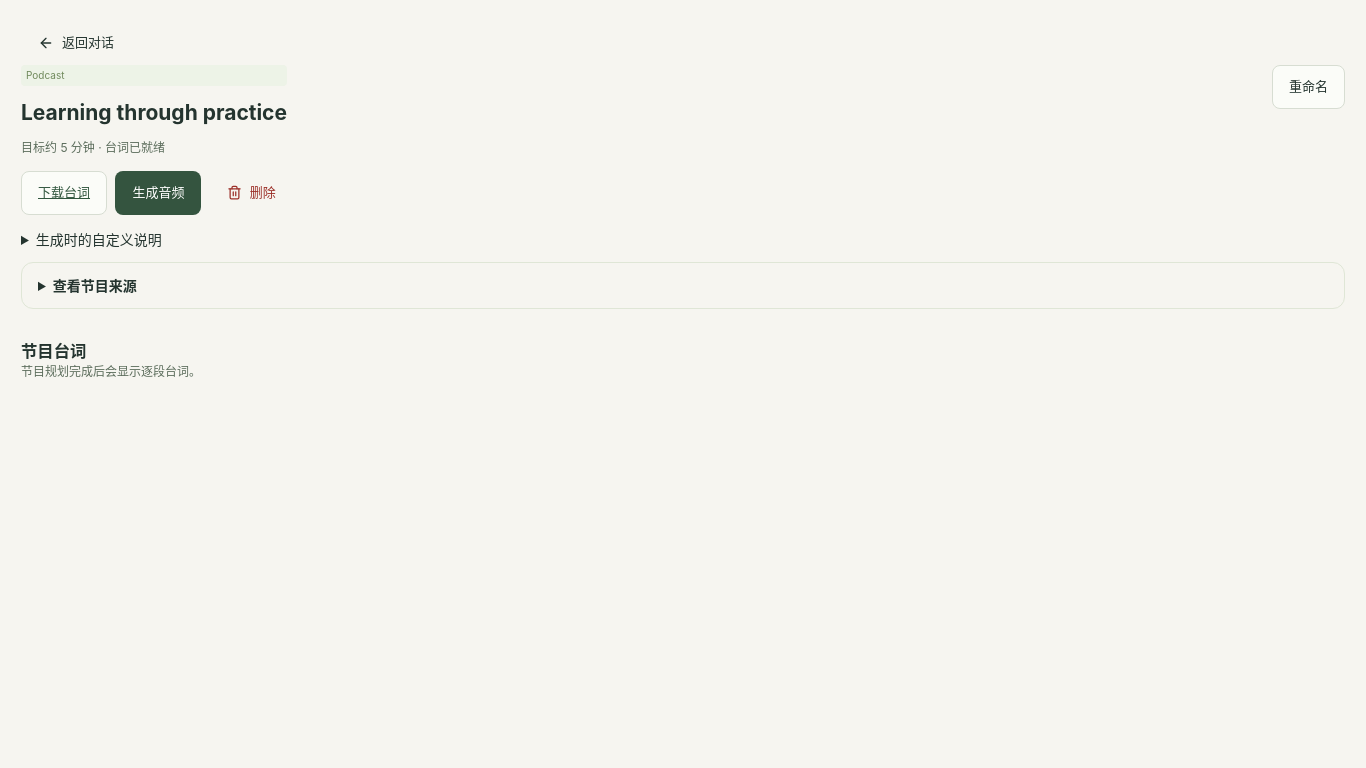
Test: renaming opens an accessible dialog and preserves the draft when saving fails
Click the button "重命名" at (1308, 87), box [1272,65,1345,109]
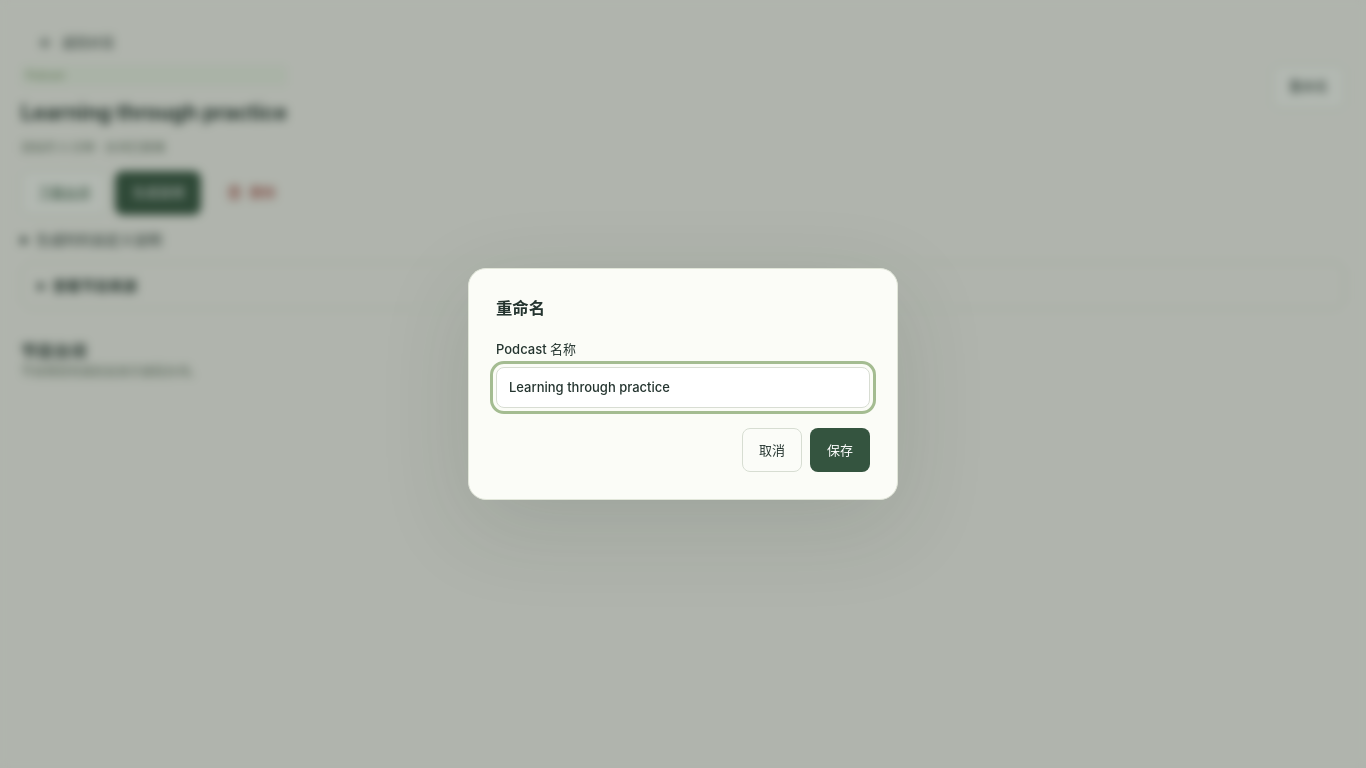
Replace the text in the field labelled "Podcast 名称" with "New episode name" at (683, 388), box [496,367,870,408]
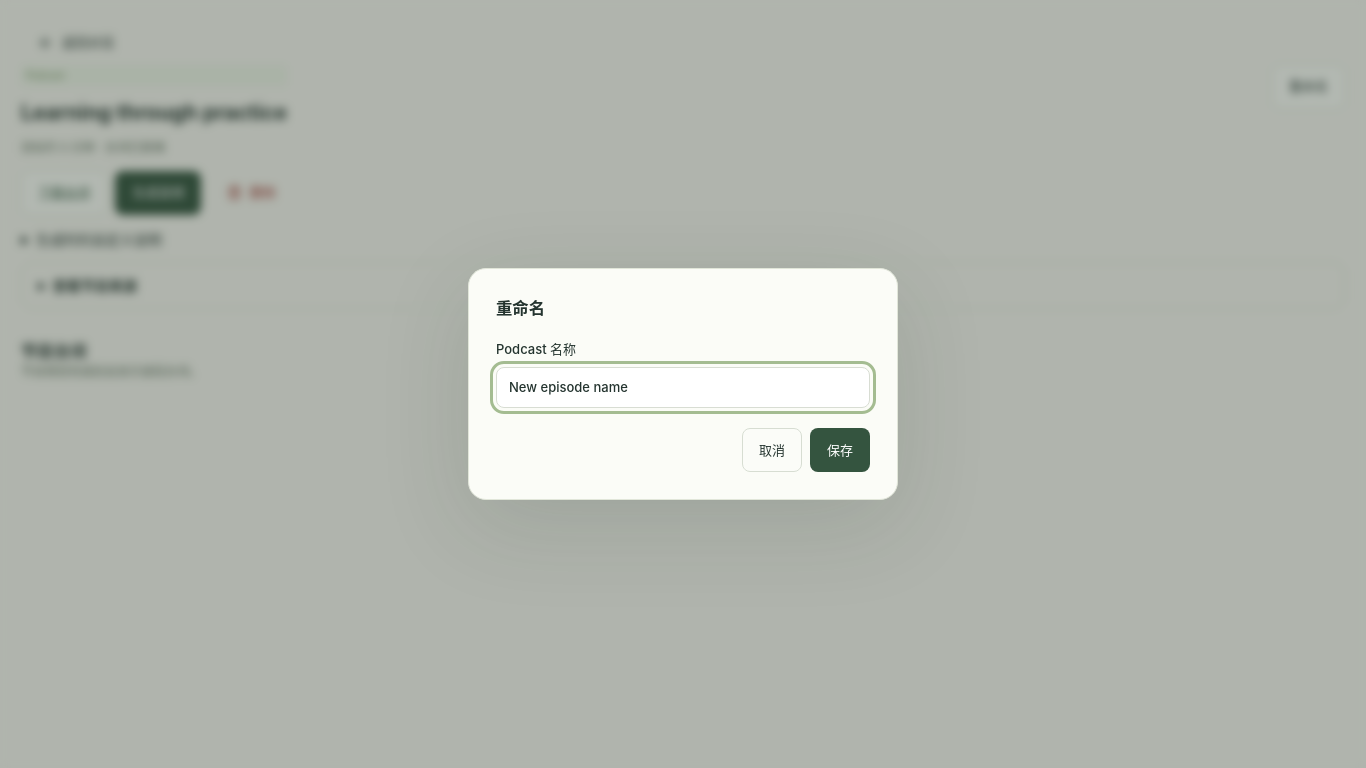
Click the button "保存" at (840, 450), box [810,428,870,472]
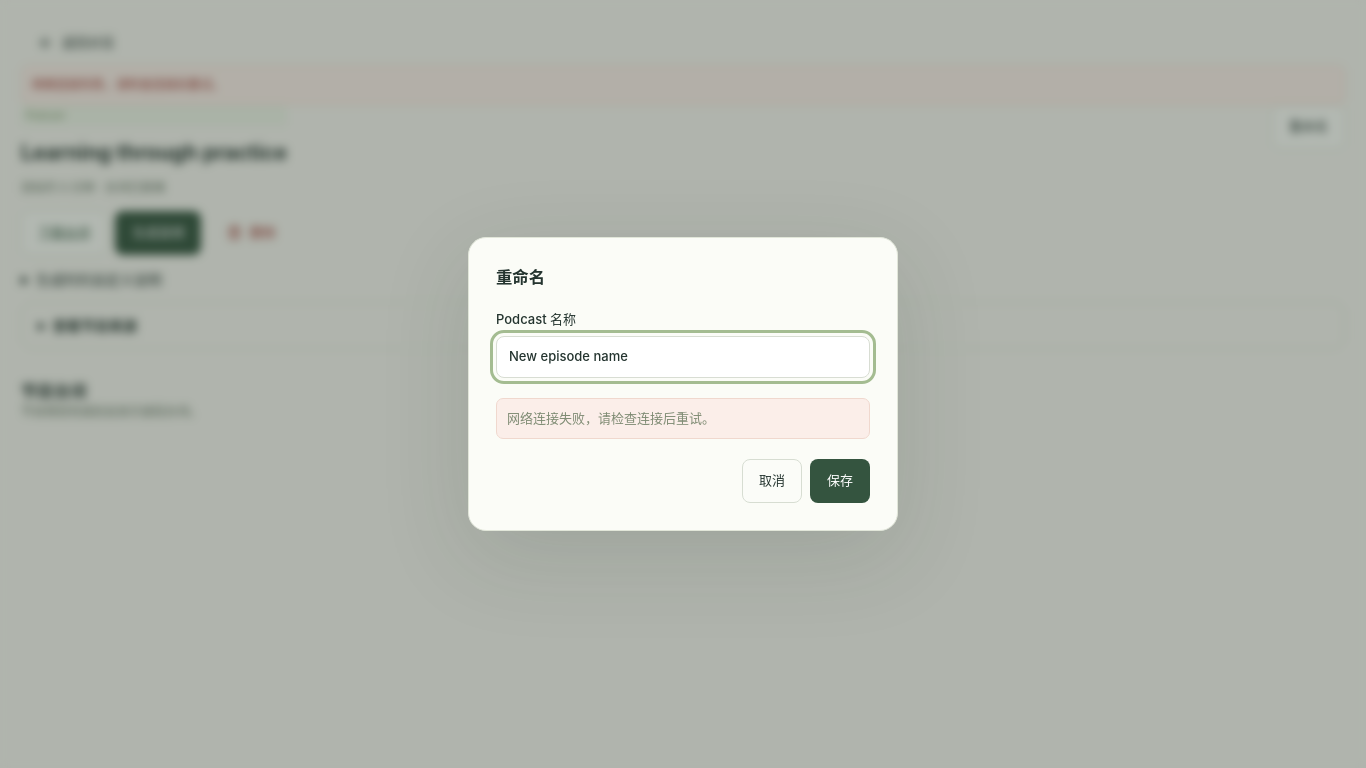
Press Escape
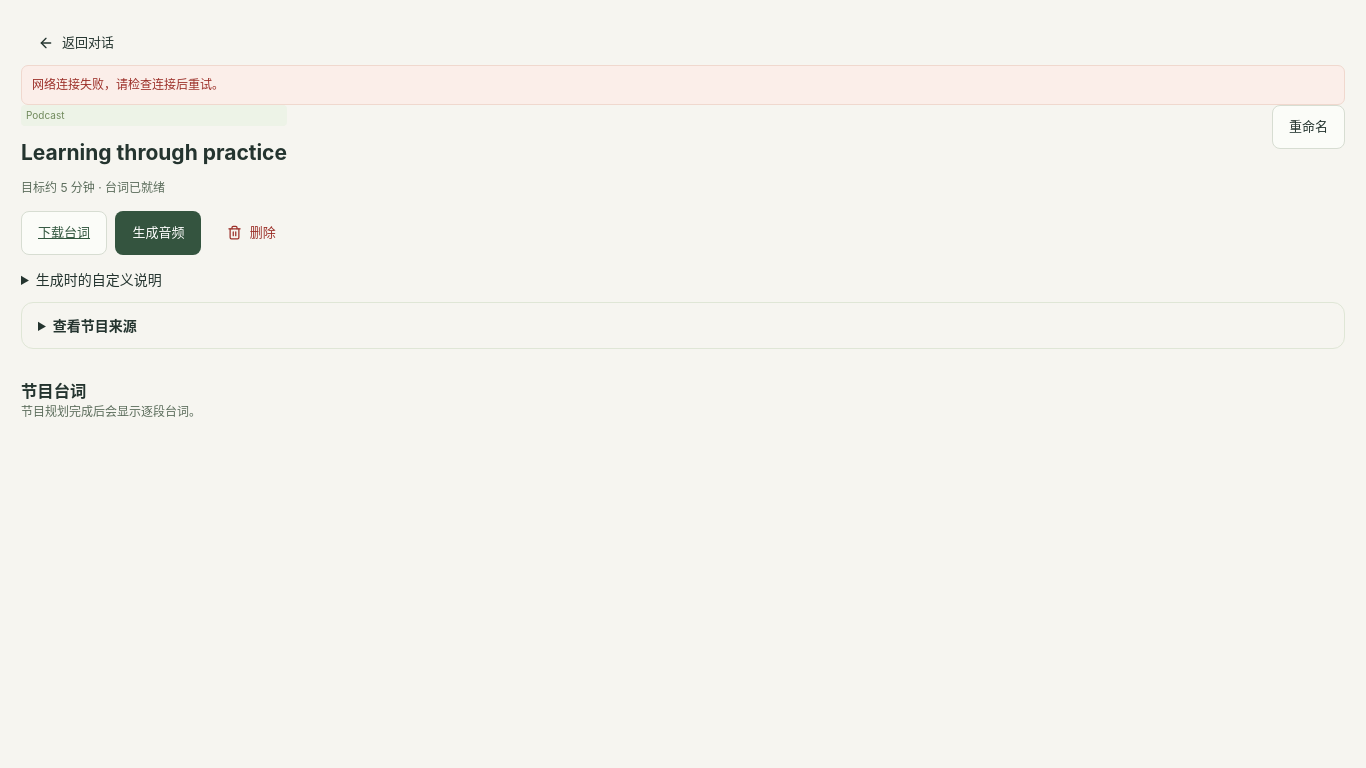
Expected: the dialog is gone
